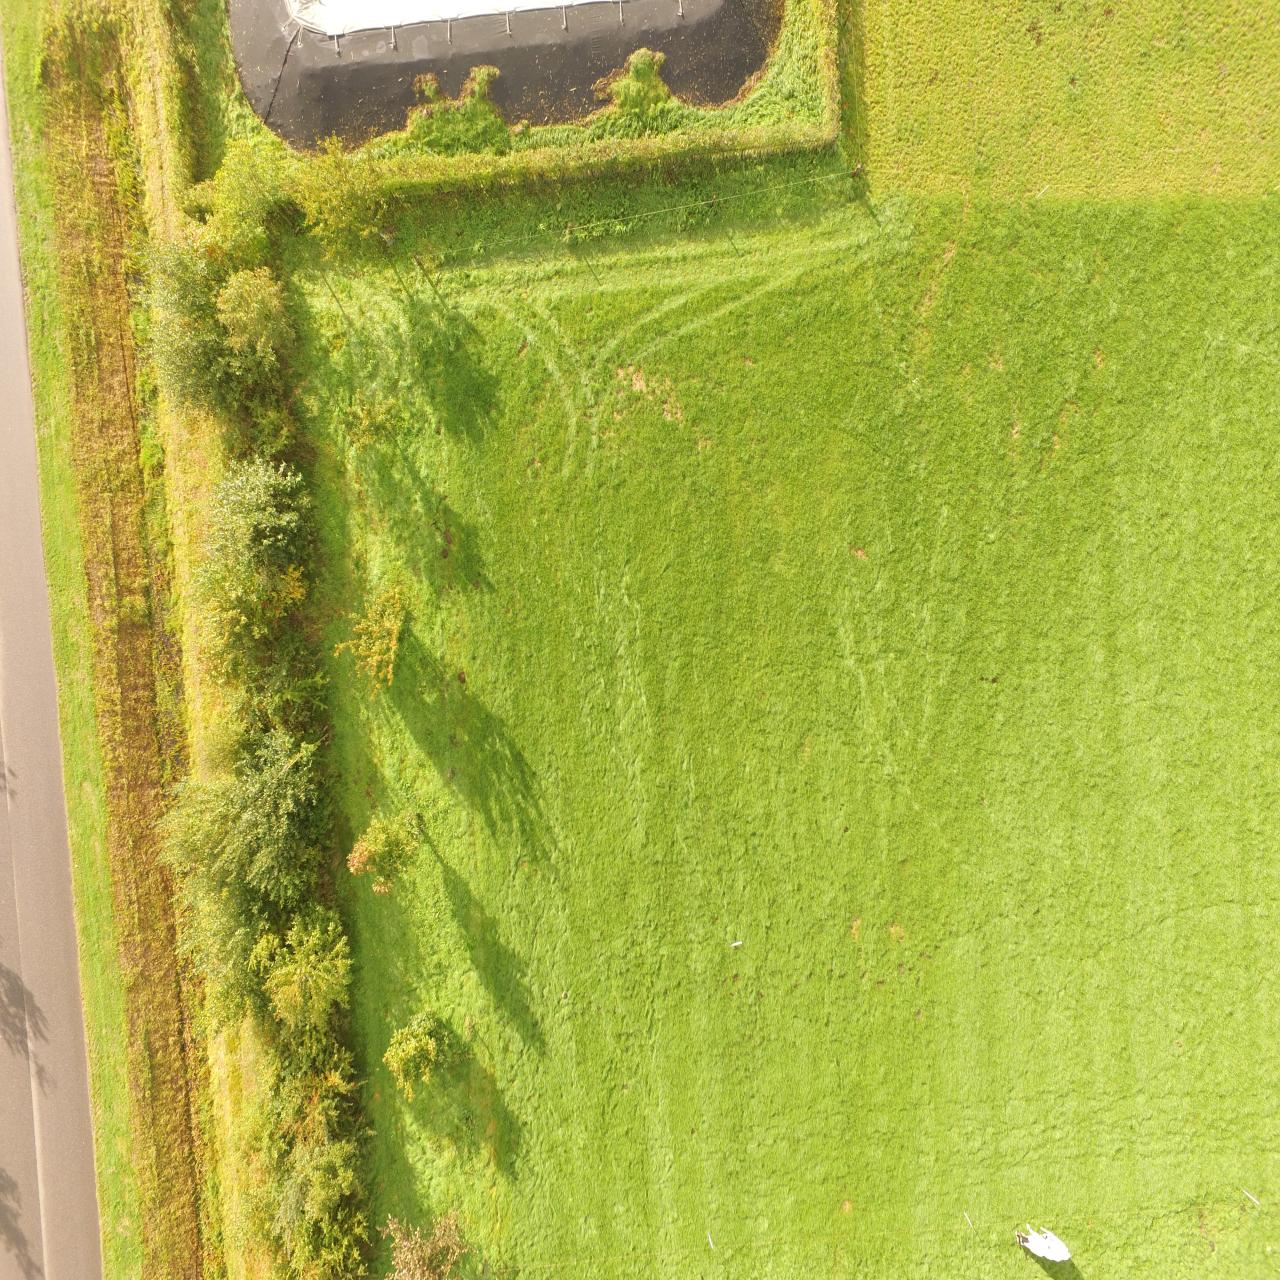cow: (1012, 1218, 1073, 1268)
